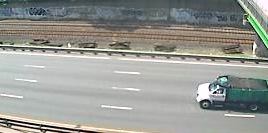car: (193, 72, 268, 116)
